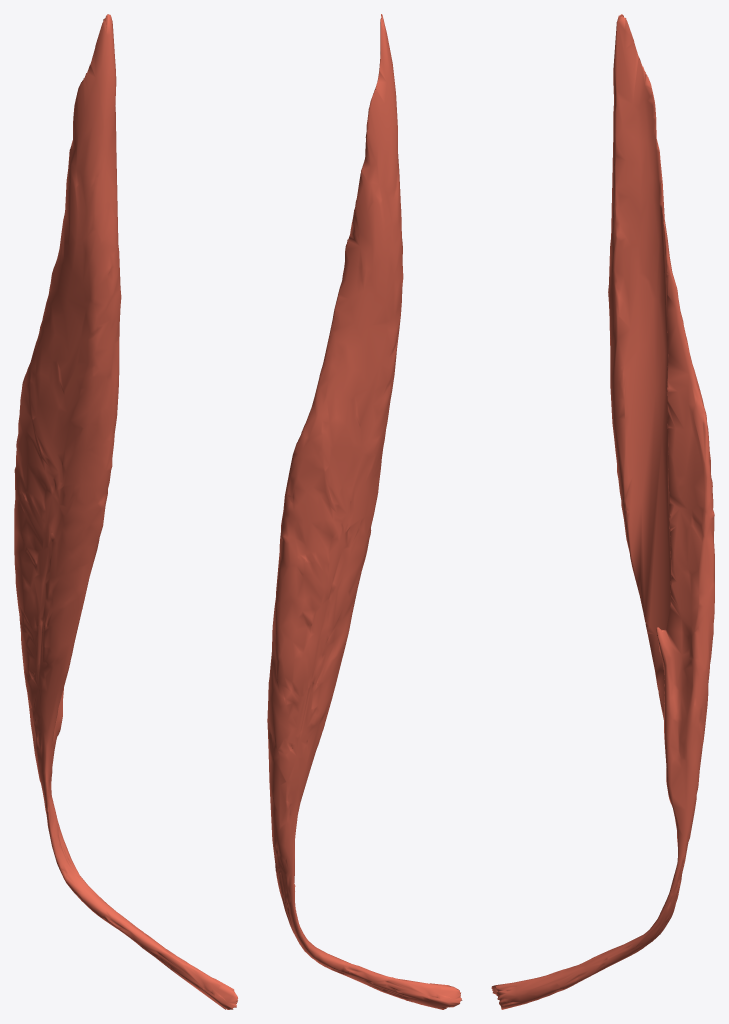
The model's file is fibularis-brevis.glb.
3 renders of one model, left to right at view 1: azimuth 90°, elevation 25°; view 2: azimuth 150°, elevation 25°; view 3: azimuth 270°, elevation 25°, orthographic. The views are drawn at different scales.
Visible parts, largest first — view 1: Fibularis brevis.r; view 2: Fibularis brevis.r; view 3: Fibularis brevis.r.
Boxes of the visible parts, bbox=[...] form: Fibularis brevis.r: bbox=[14, 14, 237, 1009]; Fibularis brevis.r: bbox=[267, 14, 462, 1009]; Fibularis brevis.r: bbox=[491, 14, 714, 1009].
Size of the model in its own units: 0.0274 by 0.2689 by 0.0549.
